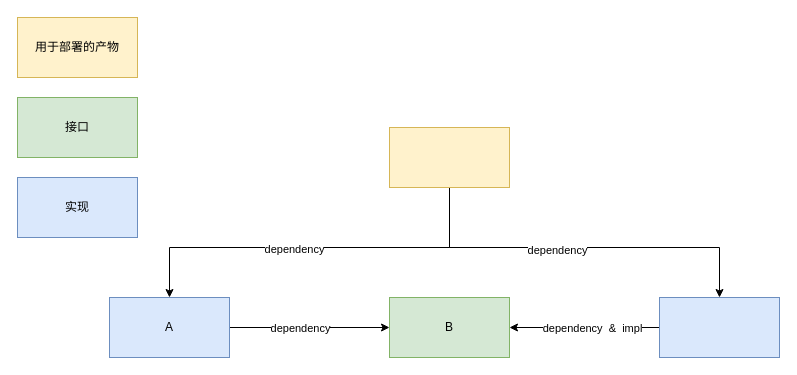
Image size: 797x375. Some labels were removed from this diagram. The shapes that lost their labels are listed below. From the top down, each one's centre as x and y in pixels, then its label:
At (449,157): "Jar / War".
At (719,327): "B-impl".
